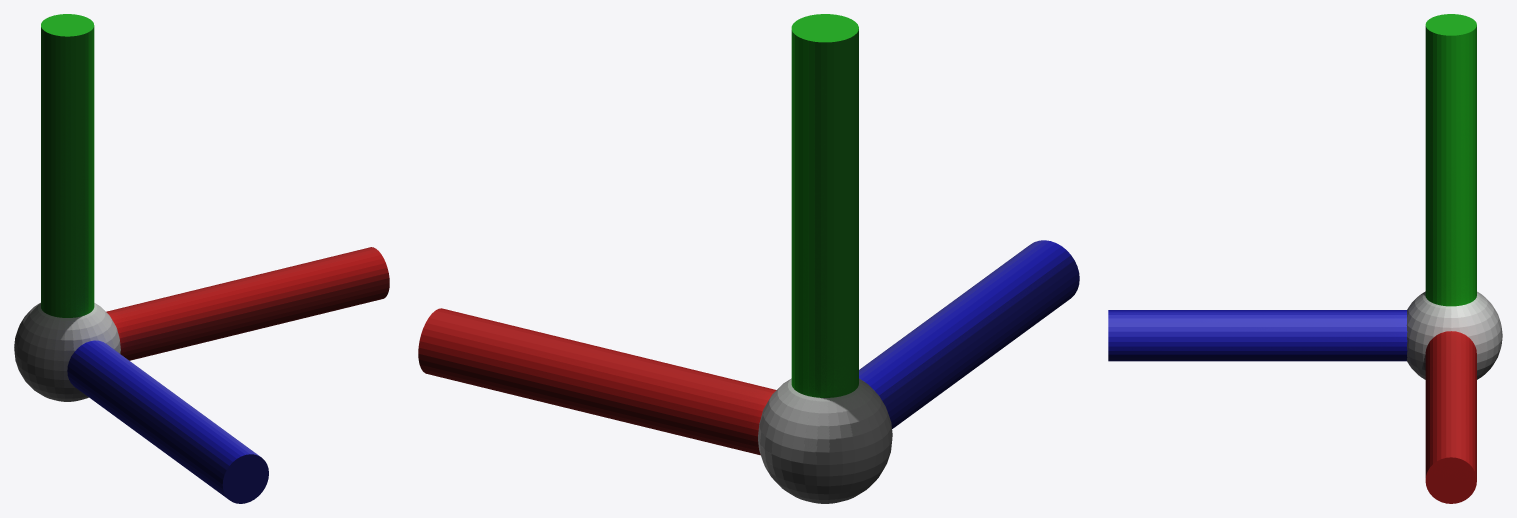
Rendered from frame.obj.
The picture shows the model from 3 angles, left to right: view 1: azimuth 30°, elevation 25°; view 2: azimuth 150°, elevation 25°; view 3: azimuth 270°, elevation 25°; orthographic projection. The views are drawn at different scales.
Parts seen in each view (by area): view 1: Sphere; view 2: Sphere; view 3: Sphere.
Boxes of the visible parts, box(x1,y1,x2,y2) form: Sphere: box(14, 14, 389, 503); Sphere: box(418, 14, 1079, 503); Sphere: box(1108, 14, 1502, 503).
Bounding box in the file's own units: 0.115 × 0.115 × 0.115.
1 material, 1 textured.
